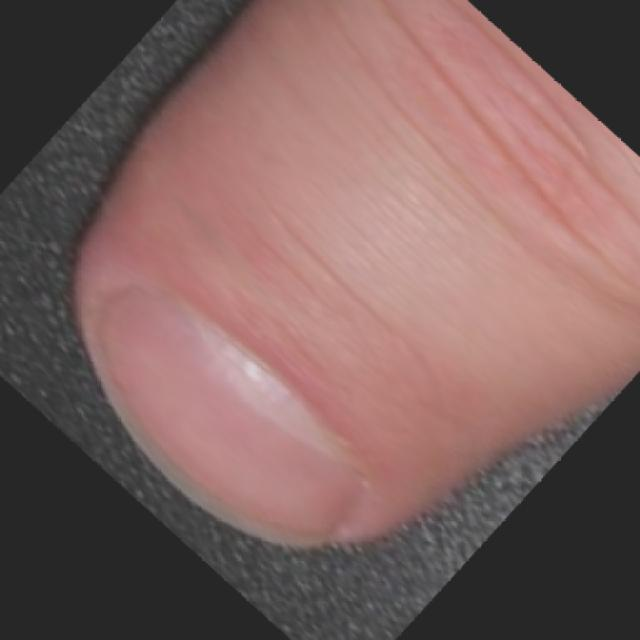Nail: (93, 286, 360, 547)
